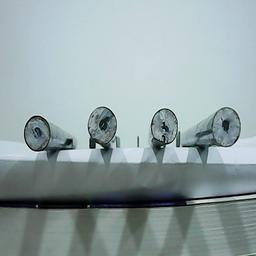pen: (210, 105, 242, 147), (87, 105, 117, 144), (22, 114, 49, 151), (150, 107, 177, 144)
